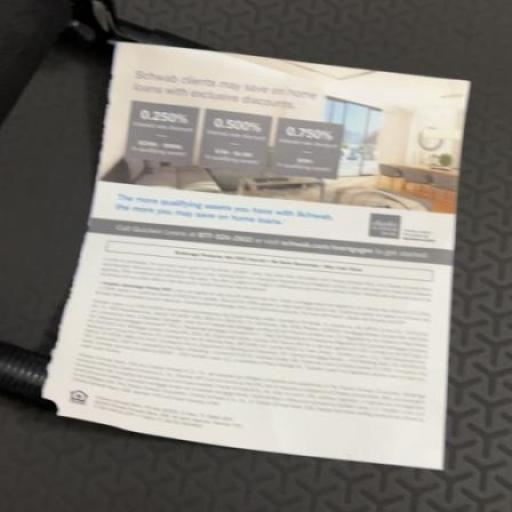paper: (39, 0, 440, 495)
